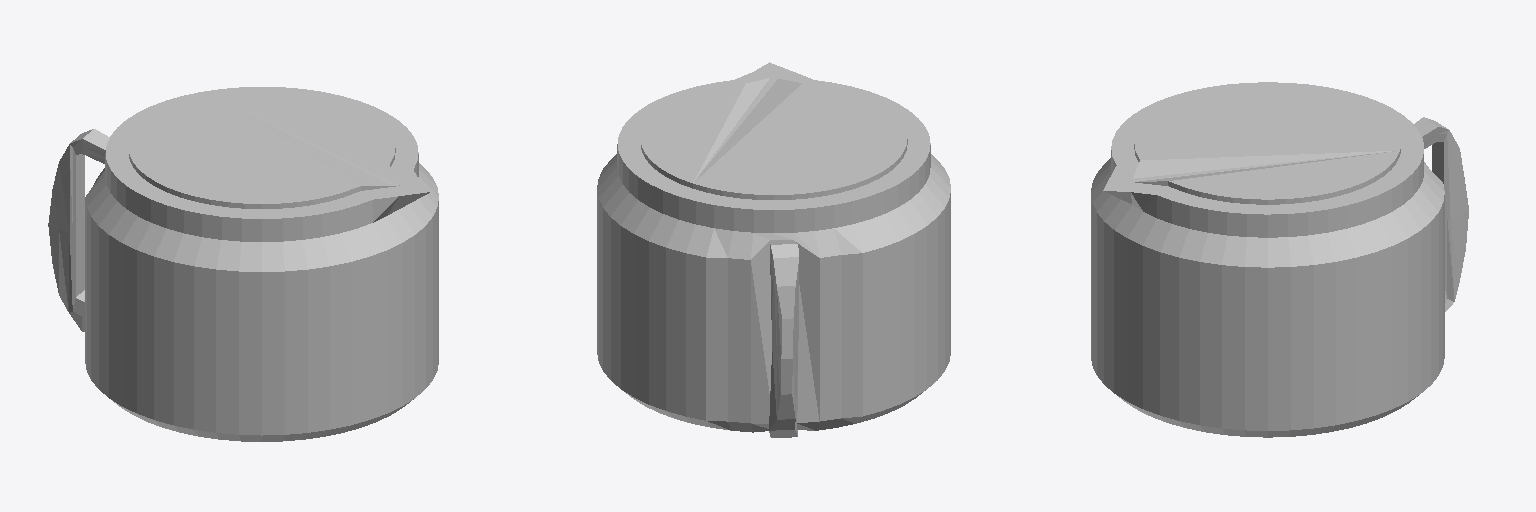
Rendered from Coffeecan.obj.
3 renders of one model, left to right at view 1: azimuth 30°, elevation 25°; view 2: azimuth 150°, elevation 25°; view 3: azimuth 270°, elevation 25°, orthographic.
Visible parts, largest first — view 1: Cylinder; view 2: Cylinder; view 3: Cylinder.
Boxes of the visible parts, box(x1,y1,x2,y2) form: Cylinder: box(48, 87, 438, 441); Cylinder: box(597, 62, 950, 437); Cylinder: box(1091, 82, 1468, 437).
Size of the model in its own units: 128 by 89.58 by 136.